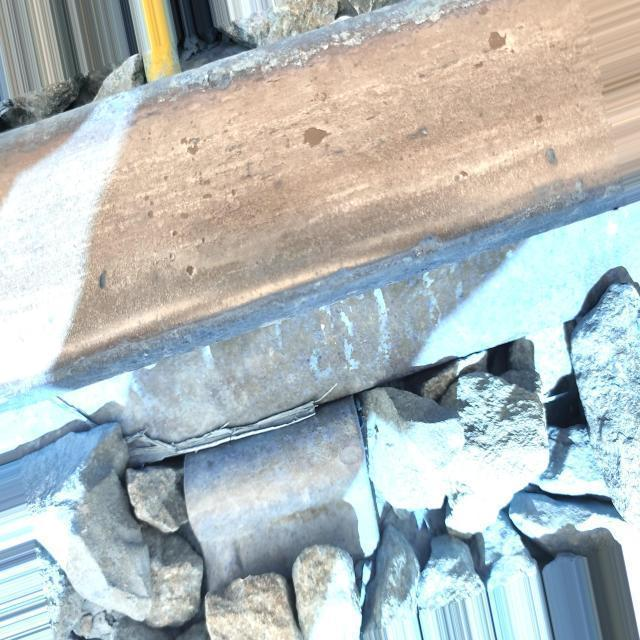head_checks_low: (178, 127, 204, 163), (300, 123, 330, 151), (486, 26, 511, 52), (528, 108, 548, 130), (544, 146, 561, 169), (98, 267, 110, 294), (184, 258, 198, 278)
